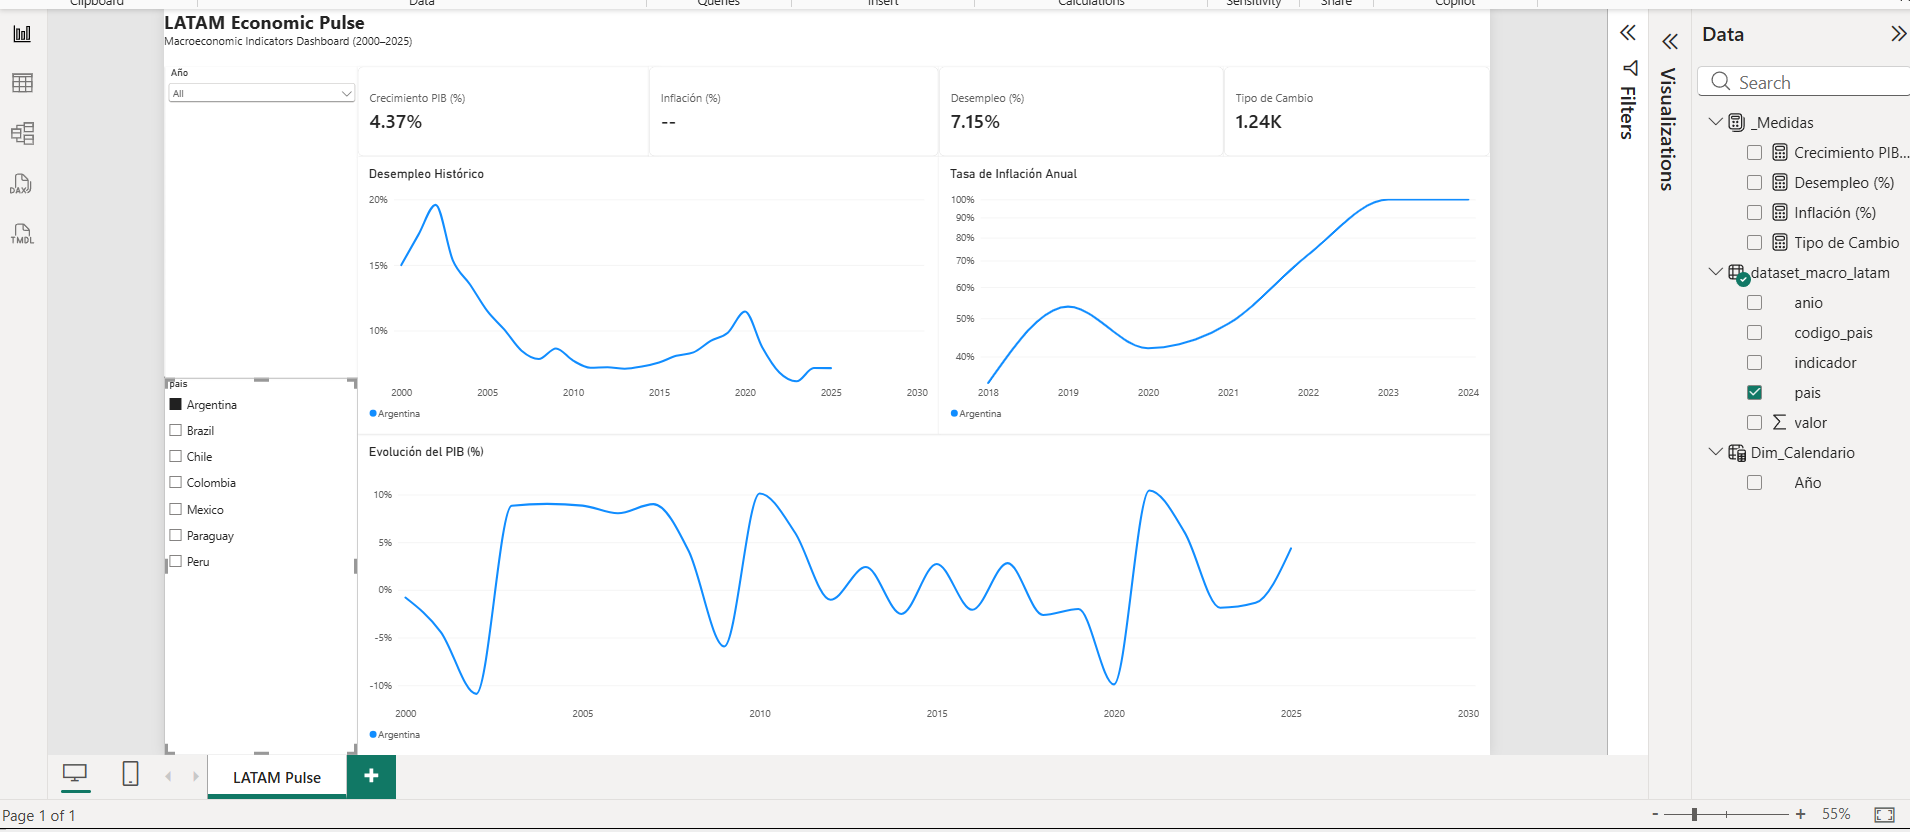

The page's visual inventory and layout, read from the dashboard file:
{"tool":"powerbi","page":{"name":"LATAM Pulse","canvas":[1920,1080],"ordinal":0},"visuals":[{"type":"slicer","fields":{"Values":["dataset_macro_latam.pais"]},"box":[0,533.8,280.5,546.5],"z":0},{"type":"slicer","title":"YEAR","fields":{"Values":["Dim_Calendario.Año"]},"box":[1.8,83.2,280.5,450.6],"z":1},{"type":"lineChart","title":"Evolución del PIB (%)","fields":{"Category":["Dim_Calendario.Año"],"Y":["_Medidas.Crecimiento PIB (%)"],"Series":["dataset_macro_latam.pais"]},"box":[280.5,615.3,1639.6,465.1],"z":6},{"type":"textbox","box":[0,0,1920.1,83.2],"z":7},{"type":"cardVisual","fields":{"Data":["_Medidas.Crecimiento PIB (%)"]},"box":[280.5,83.2,437.9,130.3],"z":8},{"type":"cardVisual","fields":{"Data":["_Medidas.Inflación (%)"]},"box":[702.1,83.2,419.8,130.3],"z":9},{"type":"cardVisual","fields":{"Data":["_Medidas.Desempleo (%)"]},"box":[1122,83.2,412.6,130.3],"z":10},{"type":"cardVisual","fields":{"Data":["_Medidas.Tipo de Cambio"]},"box":[1534.6,83.2,385.5,130.3],"z":11},{"type":"lineChart","title":"Desempleo Histórico","fields":{"Category":["Dim_Calendario.Año"],"Series":["dataset_macro_latam.pais"],"Y":["_Medidas.Desempleo (%)"]},"box":[280.5,213.5,841.5,401.7],"z":12},{"type":"lineChart","title":"Tasa de Inflación Anual","fields":{"Category":["Dim_Calendario.Año"],"Series":["dataset_macro_latam.pais"],"Y":["_Medidas.Inflación (%)"]},"box":[1122,213.5,798.1,401.7],"z":13}]}

Visuals, with their boxes in screenshot pixels (x1, y1, x2, y2):
slicer - dataset_macro_latam.pais: select_region(0, 376, 159, 821)
"YEAR" slicer: select_region(0, 8, 161, 376)
"Evolución del PIB (%)" lineChart: select_region(159, 442, 1496, 821)
textbox: select_region(0, 0, 1496, 8)
cardVisual - _Medidas.Crecimiento PIB (%): select_region(159, 8, 516, 114)
cardVisual - _Medidas.Inflación (%): select_region(503, 8, 845, 114)
cardVisual - _Medidas.Desempleo (%): select_region(845, 8, 1181, 114)
cardVisual - _Medidas.Tipo de Cambio: select_region(1181, 8, 1496, 114)
"Desempleo Histórico" lineChart: select_region(159, 114, 845, 442)
"Tasa de Inflación Anual" lineChart: select_region(845, 114, 1496, 442)
